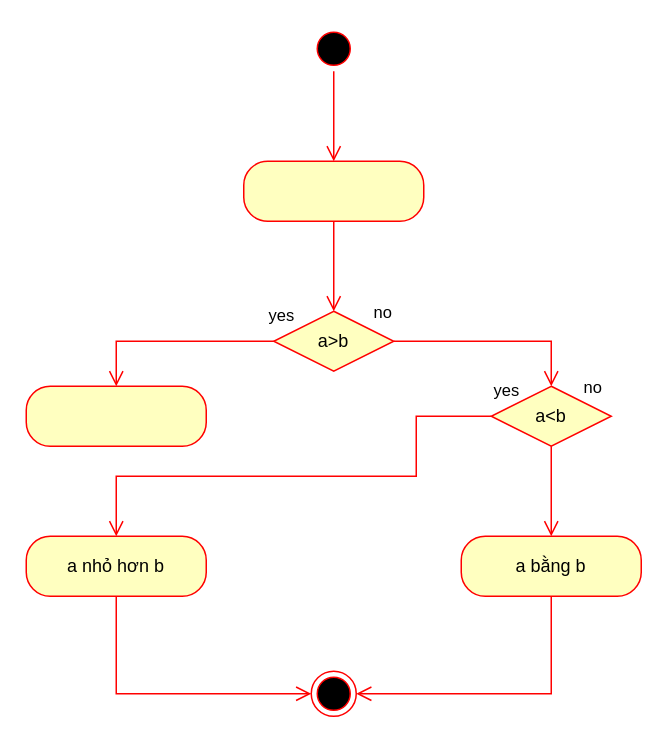
The diagram is 668 pixels wide and 743 high, and some of its shapes have lost their labels. The shapes that lost their labels are listed below. From the top down, each one's centre as x and y in pixels, then its label:
the point at 333,190: Nhập a,b
the point at 115,415: a lớn hơn b
